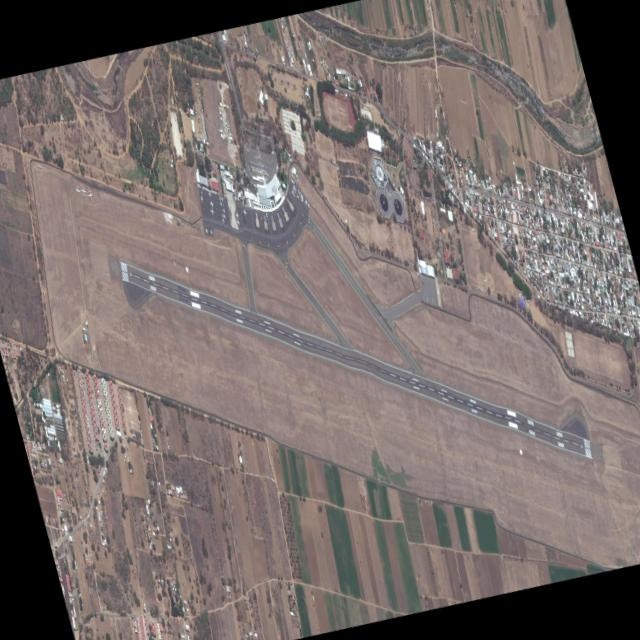plane: (86, 188, 94, 199), (80, 184, 87, 195), (74, 183, 81, 193), (210, 206, 214, 214), (242, 207, 246, 215), (200, 193, 203, 201), (236, 217, 239, 225), (210, 199, 213, 206), (208, 189, 211, 196), (235, 210, 238, 217), (222, 206, 225, 212), (200, 188, 203, 194), (221, 216, 224, 221), (218, 194, 221, 199), (219, 200, 222, 205), (223, 212, 225, 218), (437, 288, 439, 294), (431, 296, 433, 302), (438, 298, 440, 304), (221, 195, 223, 200), (221, 212, 223, 216)
